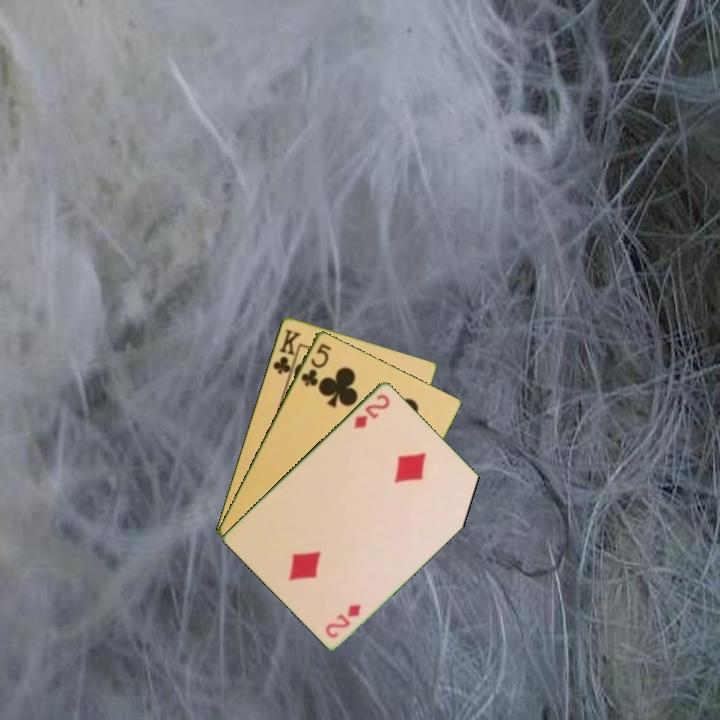2d: (350, 390, 393, 432), (322, 600, 364, 640)
5c: (297, 339, 334, 389)
Kc: (269, 325, 304, 381)
